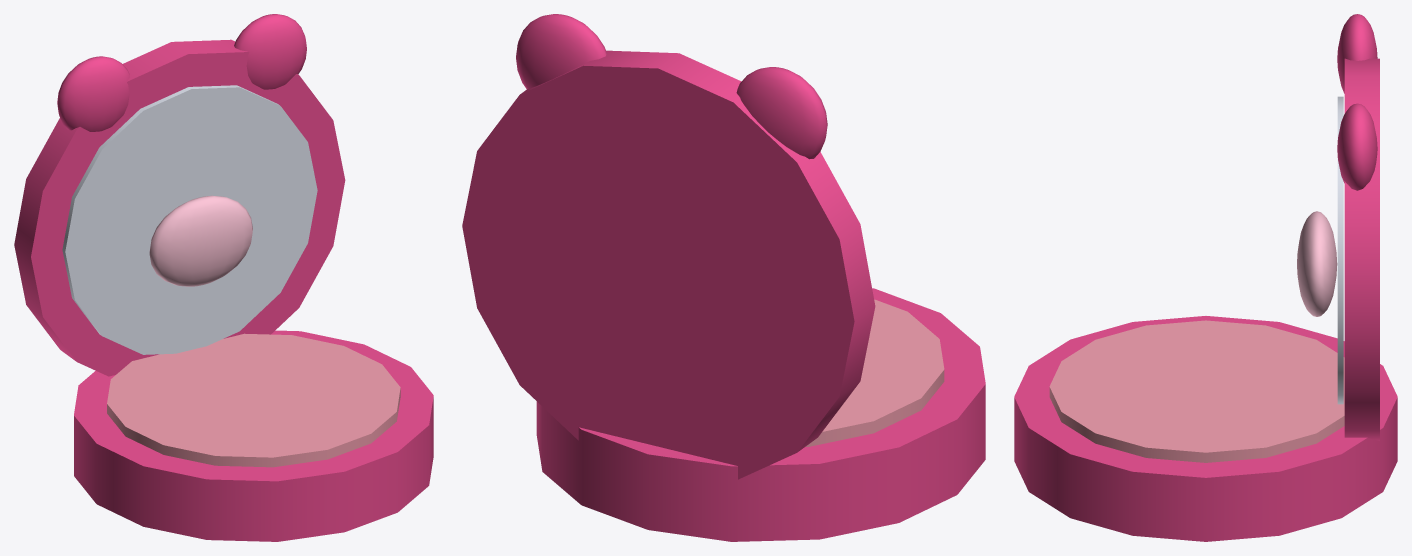
The model's file is TRD-06-01.glb.
3 views of the same model, side by side, from view 1: azimuth 30°, elevation 25°; view 2: azimuth 150°, elevation 25°; view 3: azimuth 270°, elevation 25° (orthographic). The views are drawn at different scales.
Visible parts, largest first — view 1: TRD-06-01; view 2: TRD-06-01; view 3: TRD-06-01.
Boxes of the visible parts, x1,y1,x2,y2 form: TRD-06-01: (14, 14, 433, 541); TRD-06-01: (462, 14, 985, 541); TRD-06-01: (1014, 14, 1397, 541).
Bounding box in the file's own units: 0.76 × 0.87 × 0.76.
